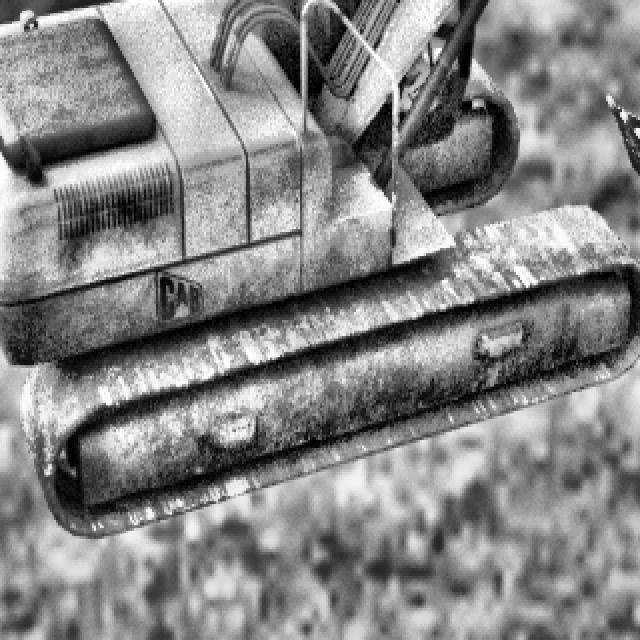excavator: (0, 0, 640, 539)
